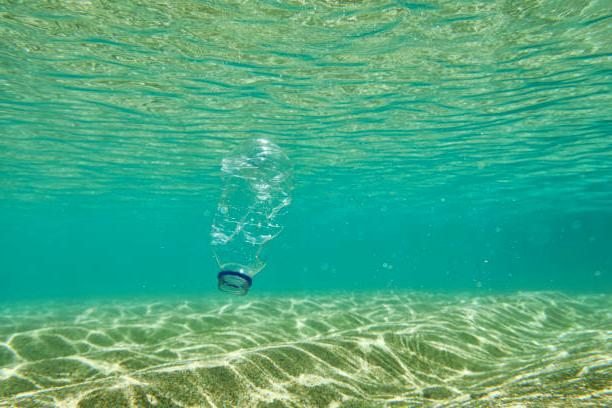Plastic: (199, 140, 282, 301), (192, 228, 202, 229)
